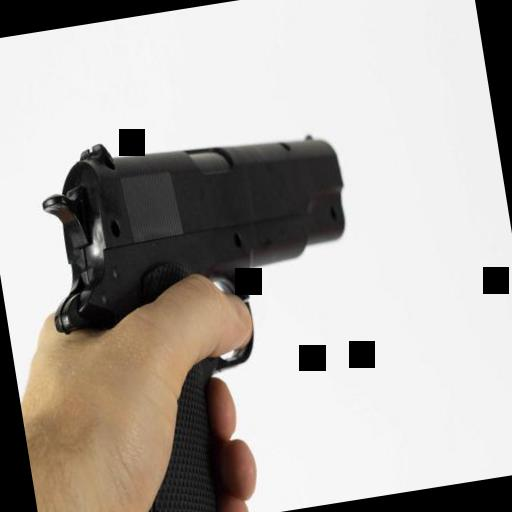Handgun: (25, 103, 393, 512)
